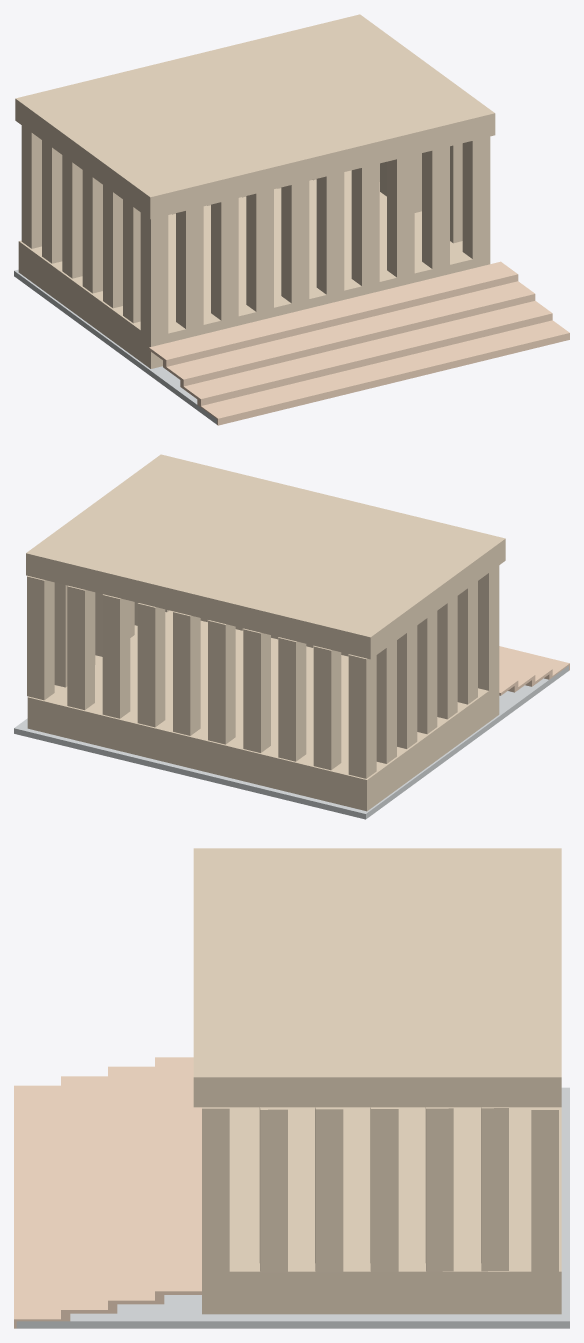
The model's file is anitkabir.glb.
The picture shows the model from 3 angles, top to bottom: view 1: azimuth 30°, elevation 25°; view 2: azimuth 150°, elevation 25°; view 3: azimuth 270°, elevation 25°; orthographic projection. The views are drawn at different scales.
Visible parts, largest first — view 1: Object_3, Object_4, Object_2; view 2: Object_3, Object_2, Object_4; view 3: Object_3, Object_4, Object_2.
Part boxes in pixels (x1,y1,x2,y2): Object_3: (15, 14, 495, 368); Object_4: (149, 261, 569, 425); Object_2: (14, 269, 216, 424); Object_3: (26, 454, 505, 811); Object_2: (14, 665, 568, 819); Object_4: (499, 646, 569, 695); Object_3: (193, 848, 561, 1314); Object_4: (14, 1057, 201, 1328); Object_2: (16, 1087, 569, 1328).
Bounding box in the file's own units: 201 × 98 × 201.
